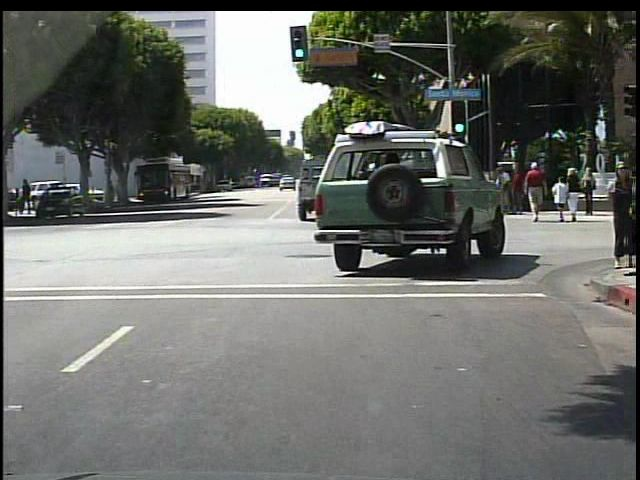person: (604, 163, 635, 268), (524, 162, 546, 224), (551, 174, 572, 226), (568, 166, 584, 223), (580, 166, 596, 218), (509, 165, 525, 216), (467, 167, 483, 216), (494, 168, 508, 214), (500, 165, 511, 211), (457, 166, 467, 215), (116, 178, 125, 207), (108, 179, 117, 202)
